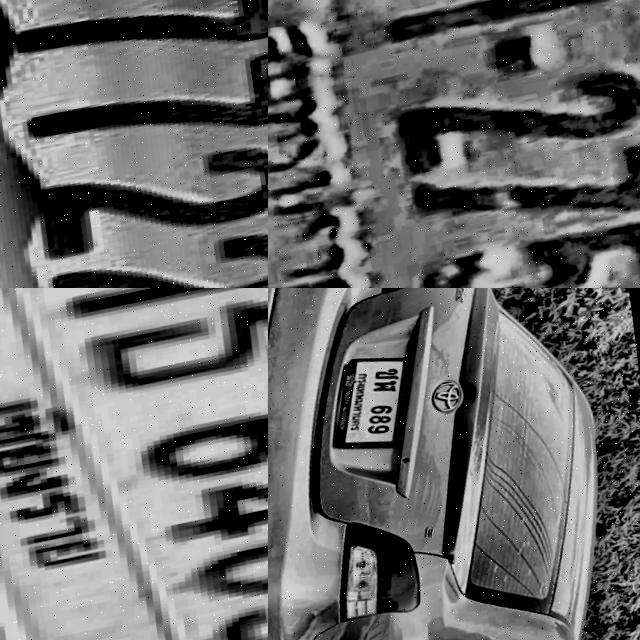license-plate: (268, 0, 640, 288), (0, 288, 268, 640), (0, 0, 268, 288), (316, 349, 429, 465)
